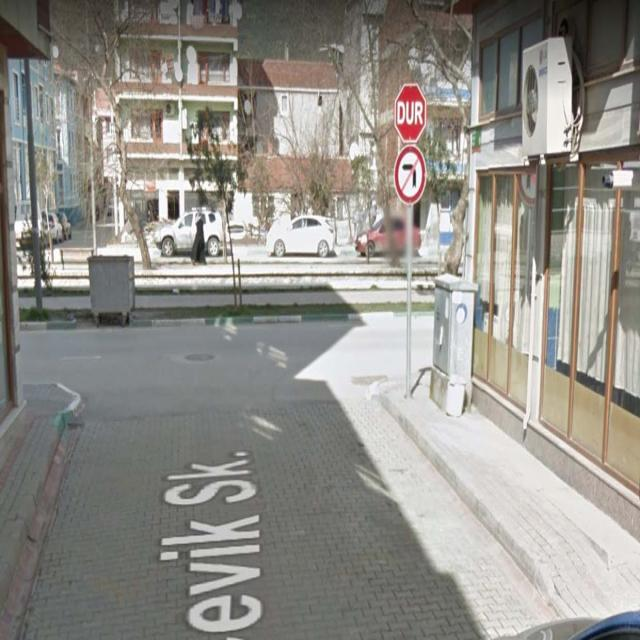dur: (395, 84, 427, 143)
soladonulmez: (394, 145, 426, 203)
